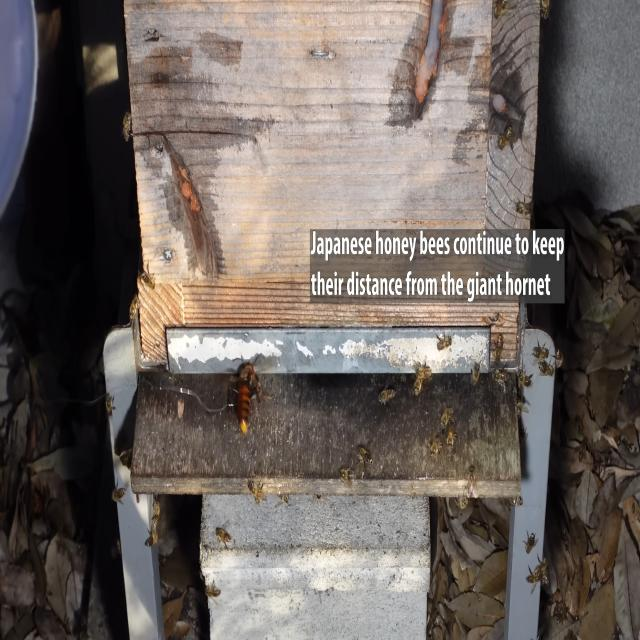Bees: (246, 476, 267, 506), (513, 363, 534, 392), (354, 443, 374, 472), (511, 194, 533, 220), (434, 328, 455, 354), (215, 518, 231, 552), (490, 332, 507, 364), (439, 398, 454, 433), (530, 552, 550, 578), (496, 121, 512, 153), (122, 106, 134, 148), (465, 462, 479, 498), (140, 260, 156, 291), (531, 336, 550, 362), (526, 564, 541, 596), (338, 459, 356, 485), (110, 477, 126, 506), (377, 384, 397, 407), (491, 367, 511, 389), (204, 578, 222, 602), (523, 528, 538, 556), (452, 489, 469, 513), (468, 356, 482, 385), (444, 426, 458, 455), (536, 360, 556, 380), (428, 435, 443, 461), (413, 360, 432, 380), (150, 497, 160, 531), (144, 529, 158, 549)
Hornets: (226, 354, 274, 437)
